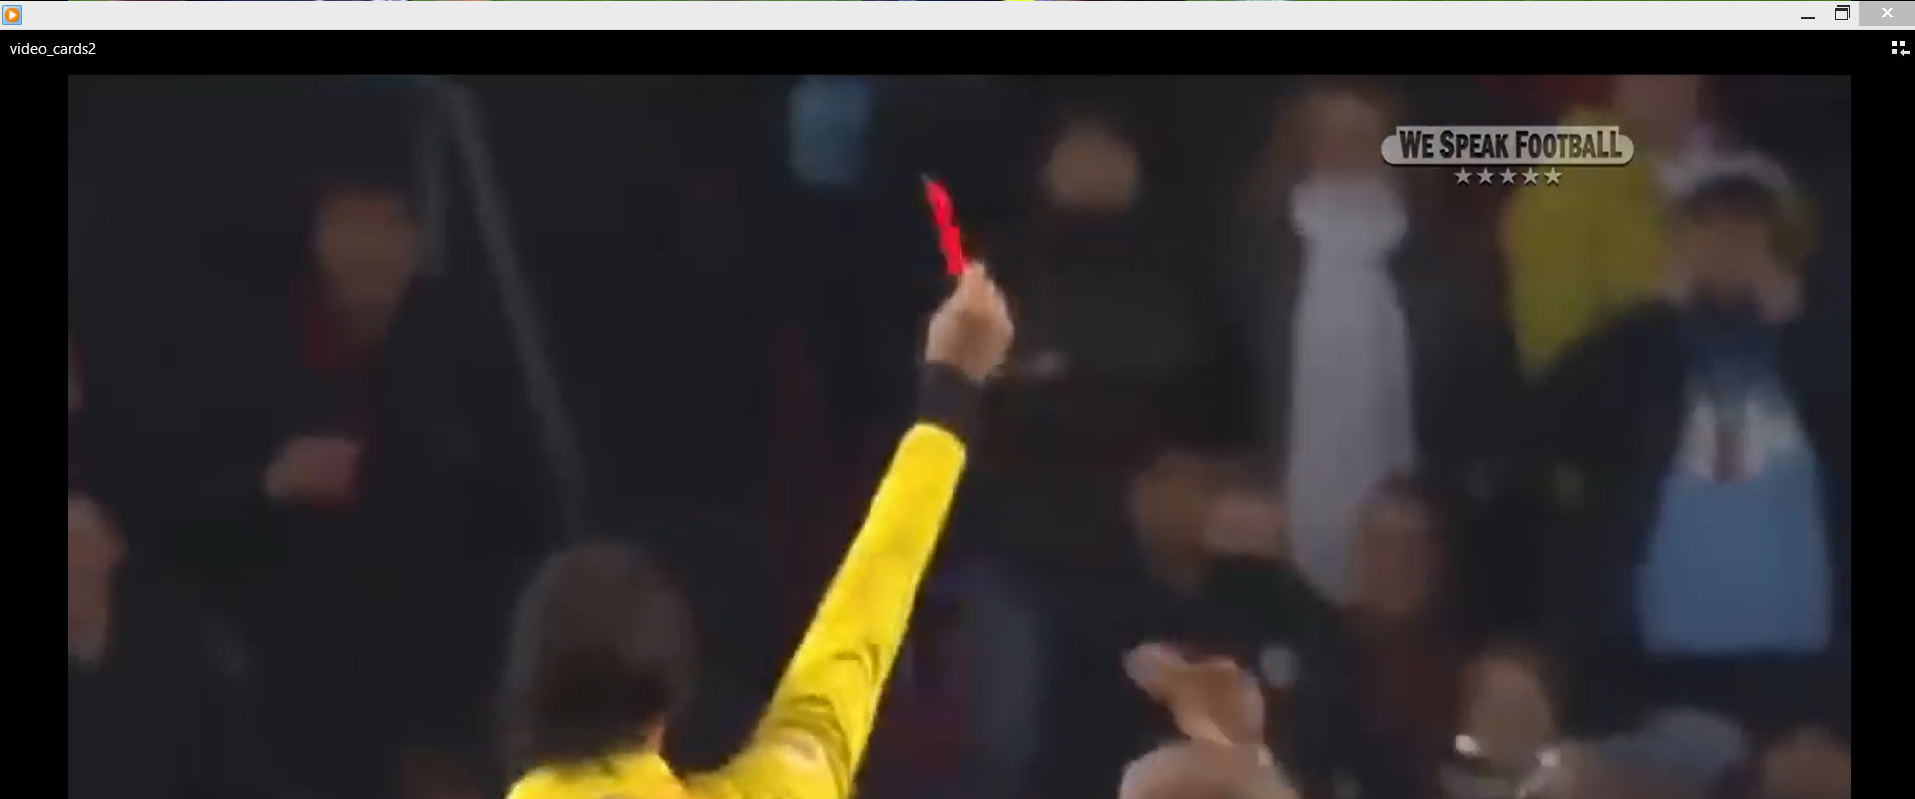red_card: (900, 172, 1019, 371)
